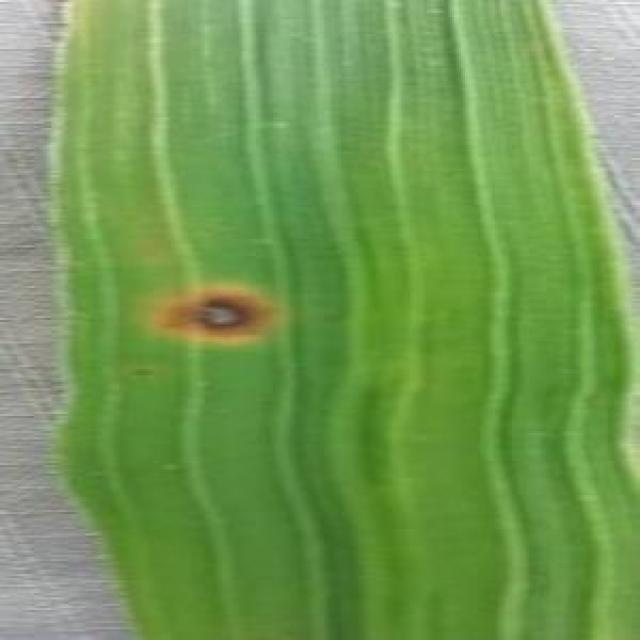Brown_Spot: (142, 274, 287, 356)
